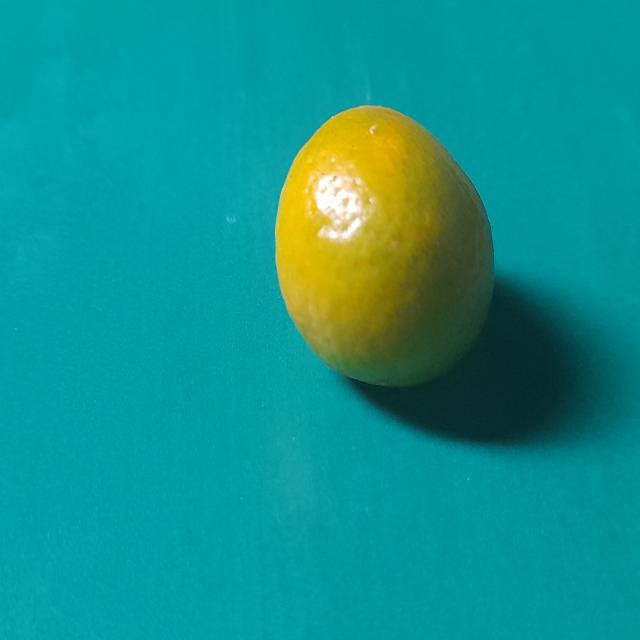greening: (270, 96, 502, 403)
